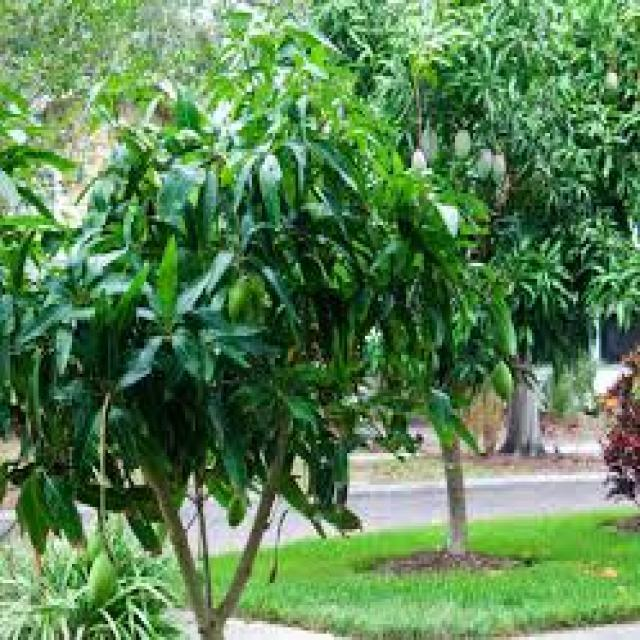Tree: (42, 1, 545, 574)
